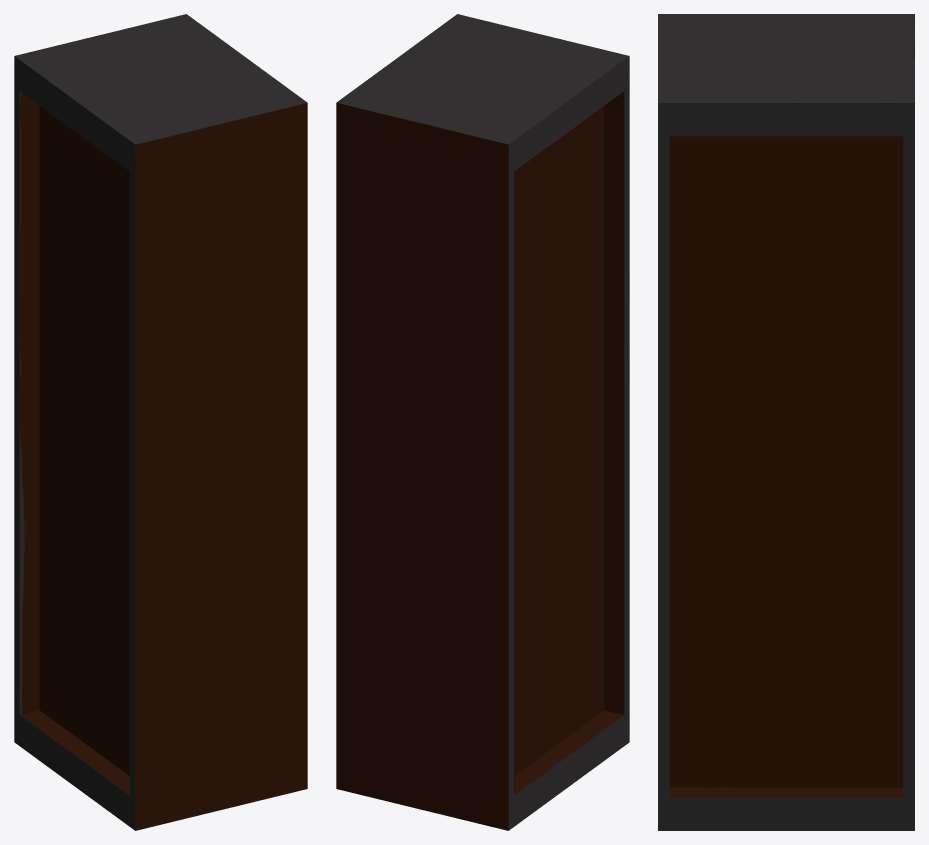
Rendered from Door.fbx.
3 views of the same model, side by side, from view 1: azimuth 30°, elevation 25°; view 2: azimuth 150°, elevation 25°; view 3: azimuth 270°, elevation 25° (orthographic). The views are drawn at different scales.
Visible parts, largest first — view 1: Cube; view 2: Cube; view 3: Cube.
Part boxes in pixels (x1,y1,x2,y2): Cube: (14, 14, 307, 830); Cube: (336, 14, 629, 830); Cube: (658, 14, 914, 830).
Size of the model in its own units: 130 by 495 by 158.
1 material, 1 textured.
